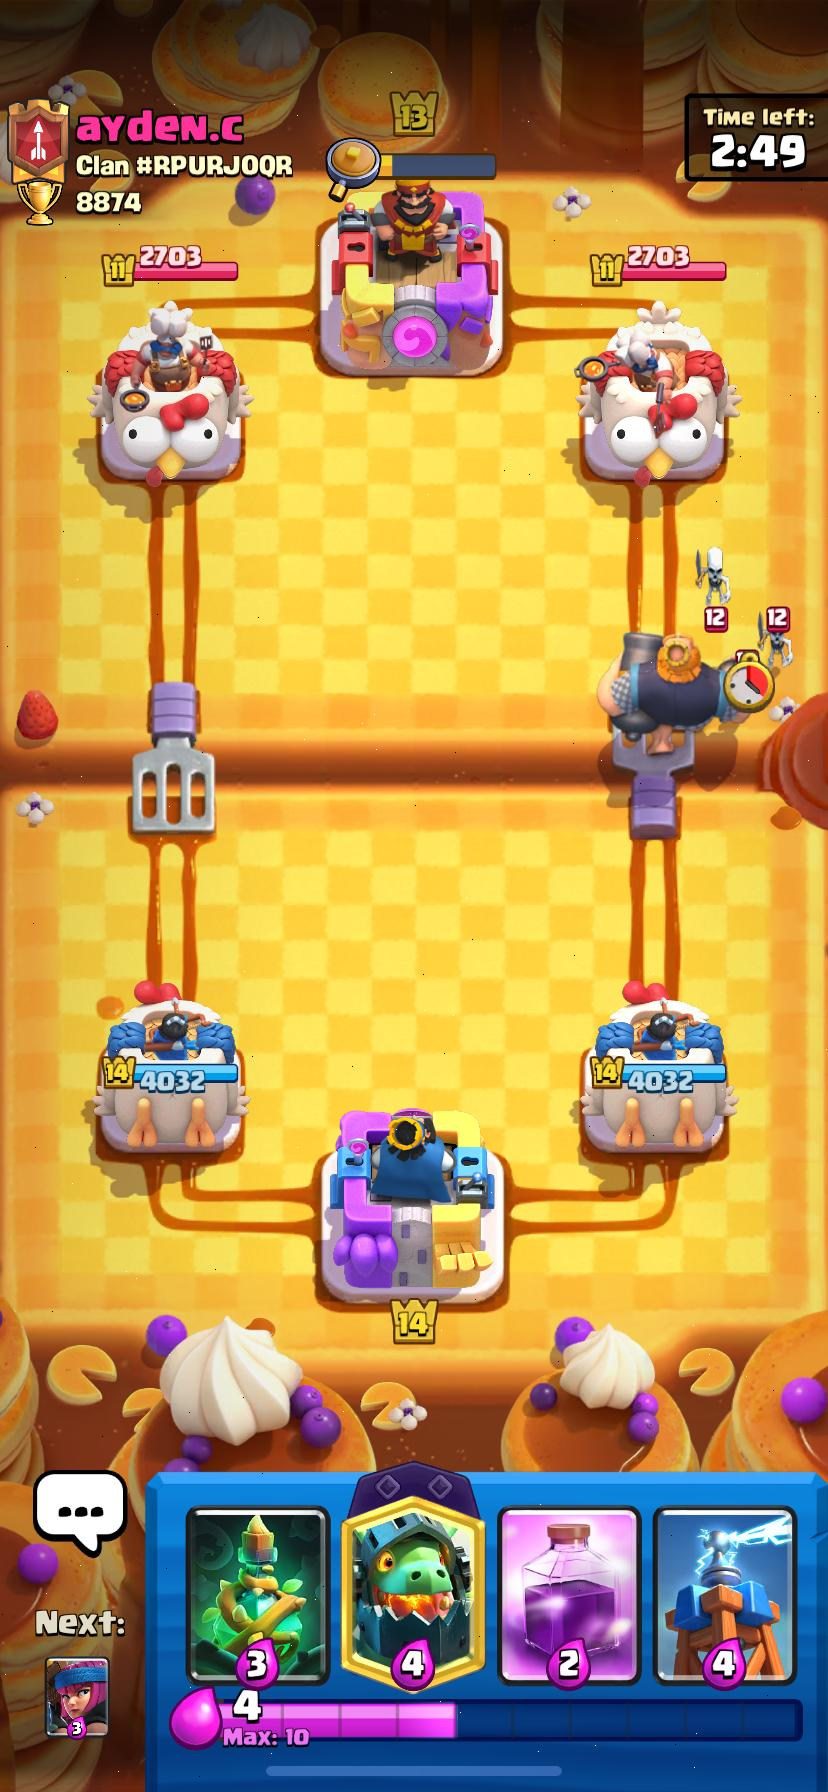EKingTower: (320, 177, 502, 377)
ELarry: (758, 605, 793, 675)
EnemyPanTower: (575, 299, 739, 488), (90, 301, 250, 486)
ORoyalG: (597, 633, 730, 755)
OwnKingTower: (321, 1109, 503, 1303)
OwnPrincessTower: (580, 982, 737, 1154), (93, 983, 248, 1152)
